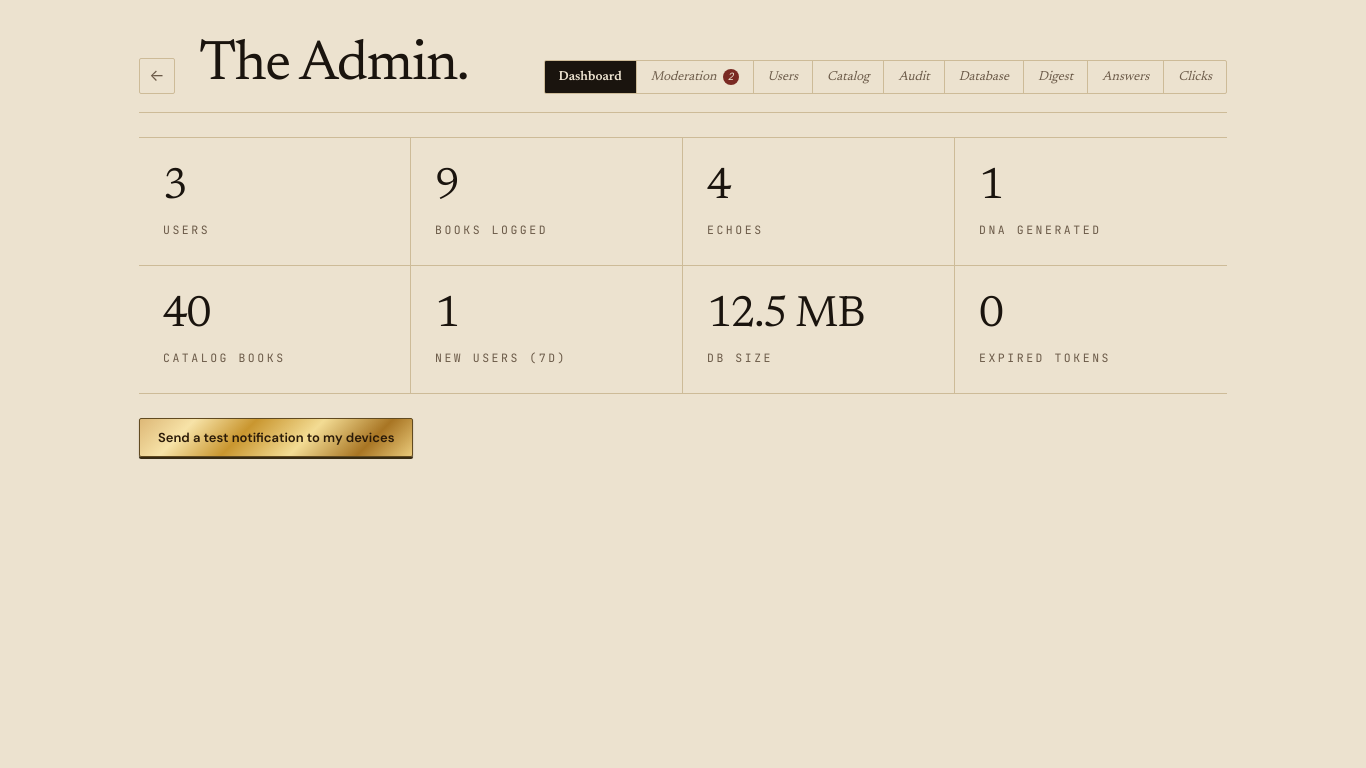
Test: AdminPage — moderation queue › surfaces a failed resolve instead of silently leaving the row
Expected: the text "Users" is shown, [163,222,210,237]
Click the button "moderation 2": (695, 77) [637,61,754,93]
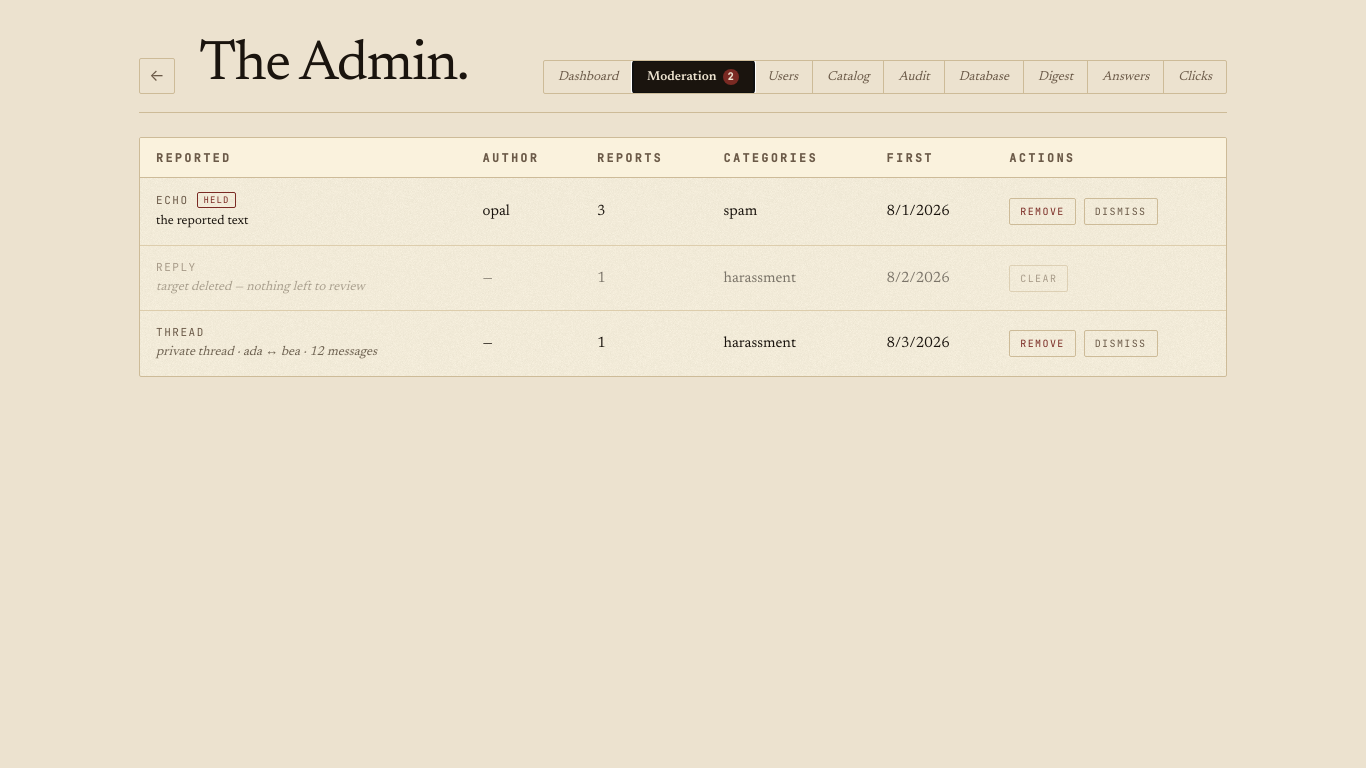
Expected: the text "the reported text" is shown, [156,214,249,227]
Click the button "Dismiss" in the row of "echo": (1121, 211) [1084,198,1158,225]
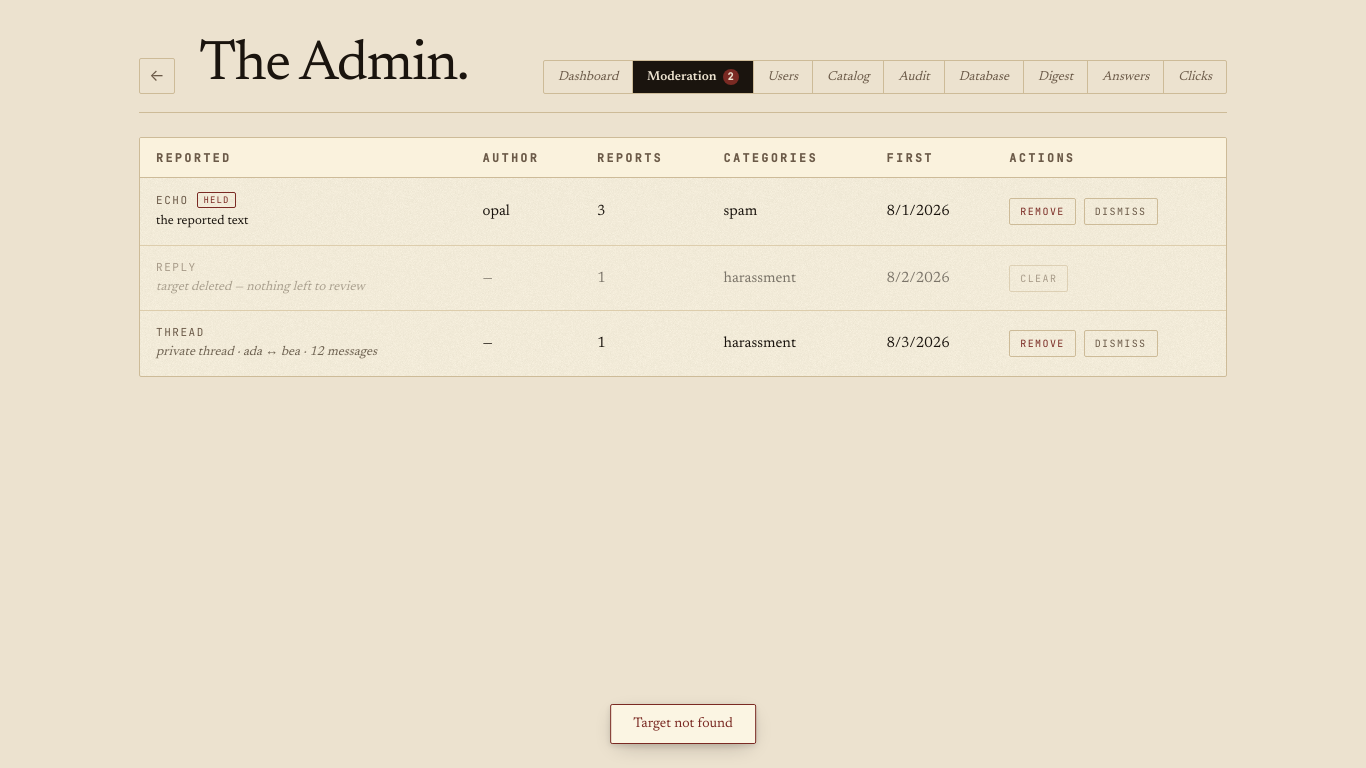
Expected: the text "Target not found" is shown, [610,704,756,744]
